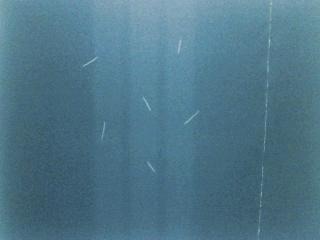scratch: (139, 93, 157, 119), (79, 54, 99, 72), (183, 109, 200, 125), (145, 160, 157, 174), (176, 36, 184, 55), (100, 120, 107, 140)
